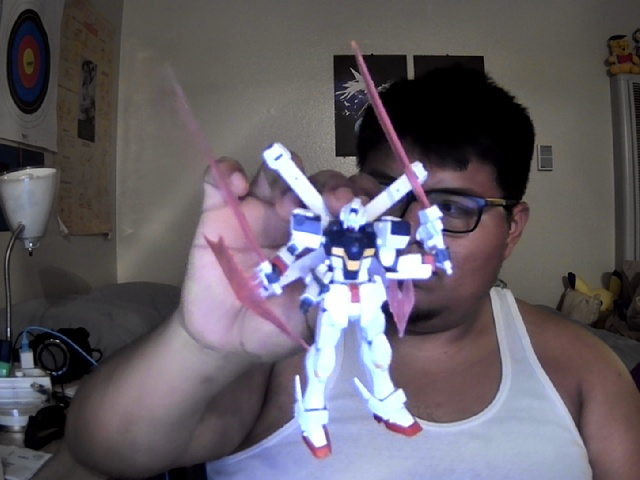Crossbones: (166, 62, 455, 461)
